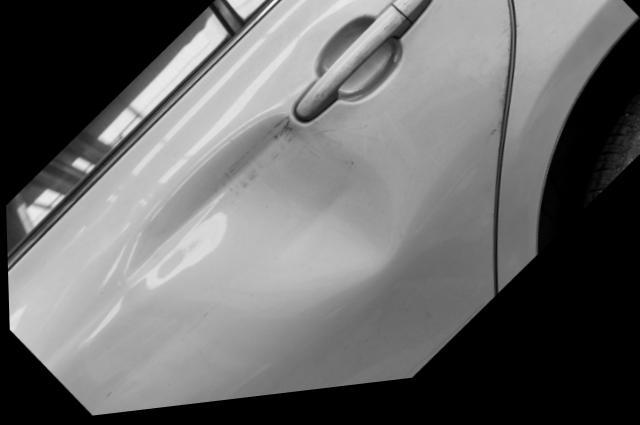dent: (122, 119, 398, 325)
